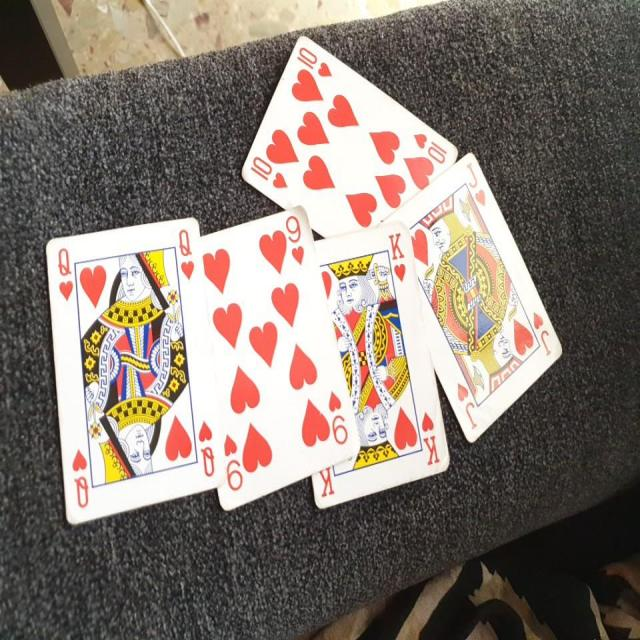10 Hearts: (238, 28, 459, 236)
9 Hearts: (189, 196, 360, 524)
J Hearts: (397, 145, 572, 454)
K Hearts: (306, 221, 448, 515)
Q Hearts: (34, 209, 224, 539)
